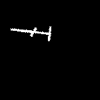double_crochet: (11, 27, 50, 40)
